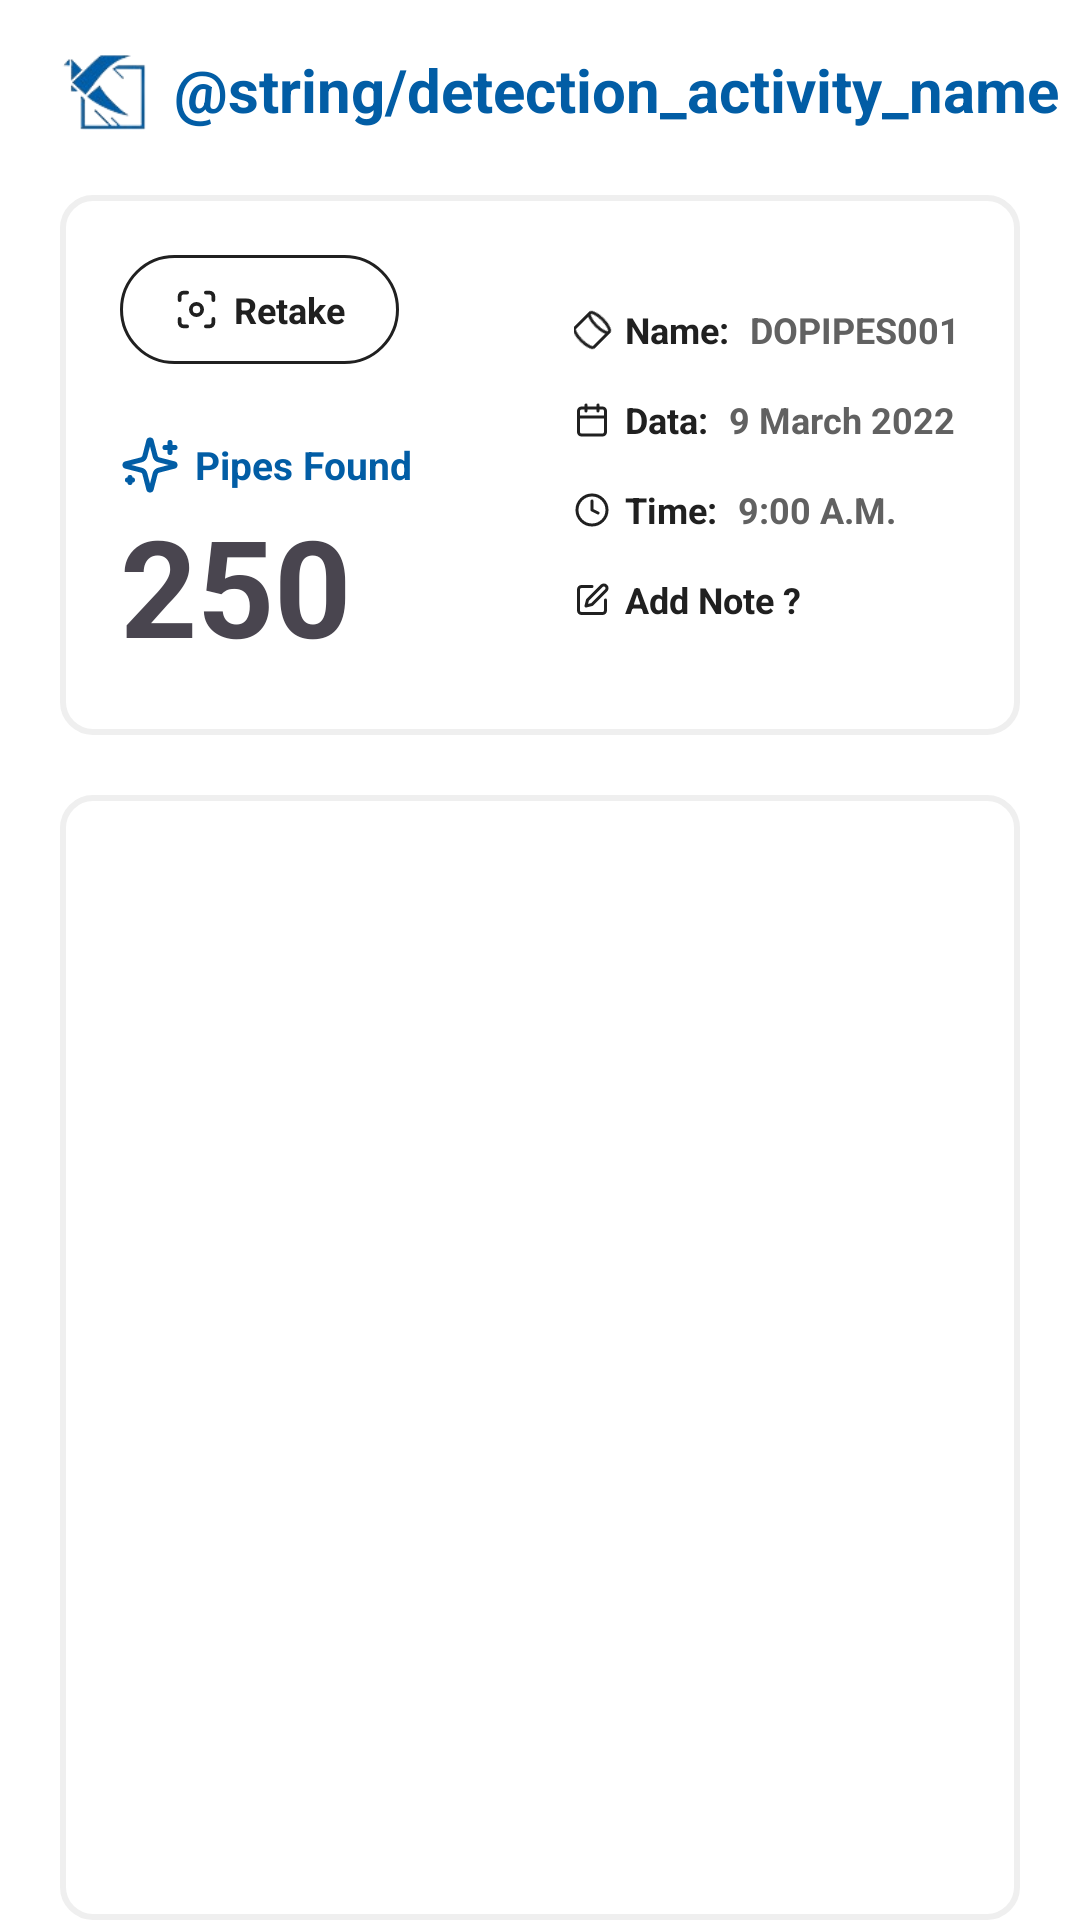

Point at icon controls on the screen. Image size 1080px x 1920px, points as (x,y).
calendar: (592,420)
clock: (592,510)
focus: (196,309)
note pen: (593,599)
sparkles: (150,465)
